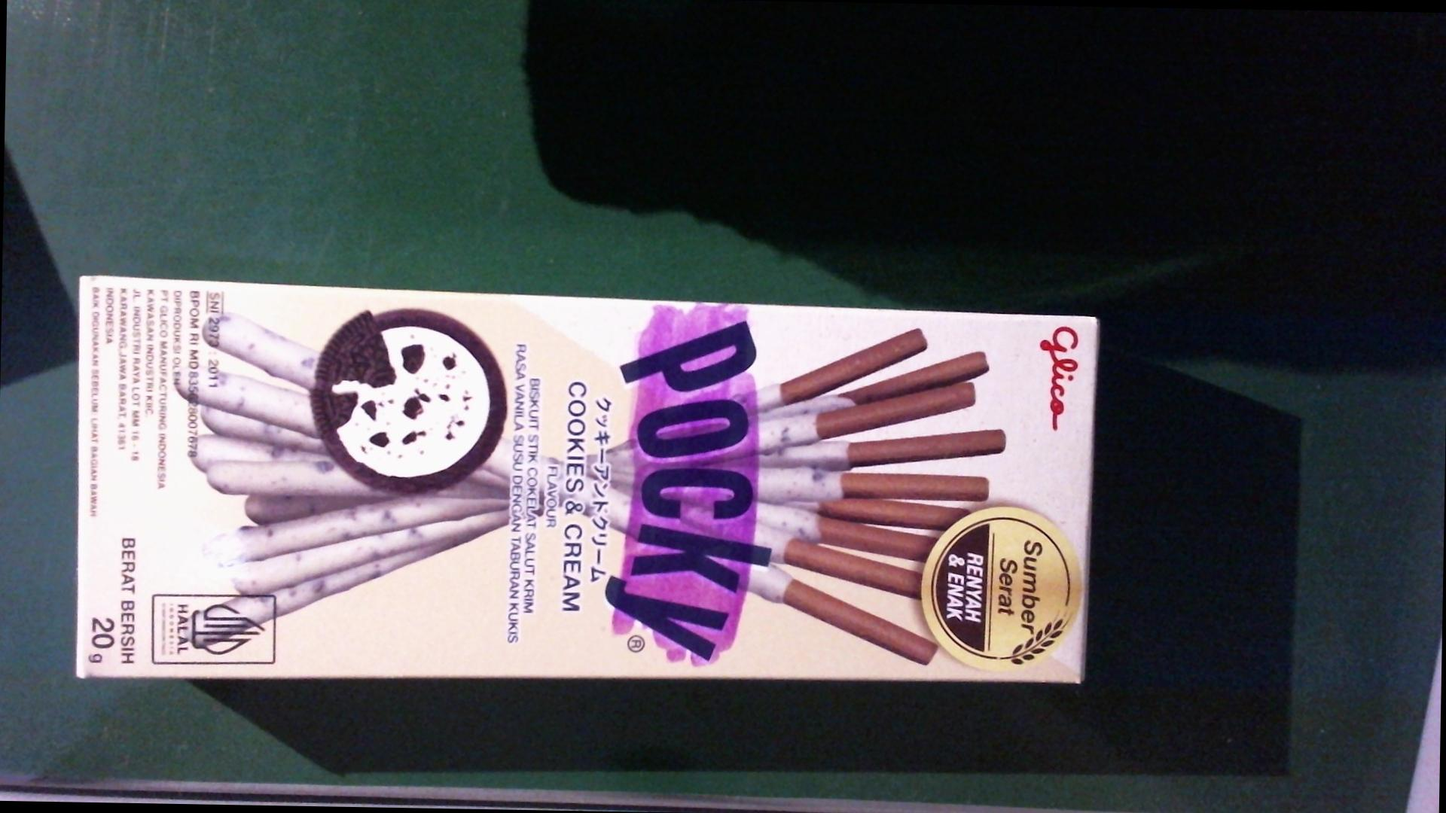Kertas: (67, 269, 1100, 699)
